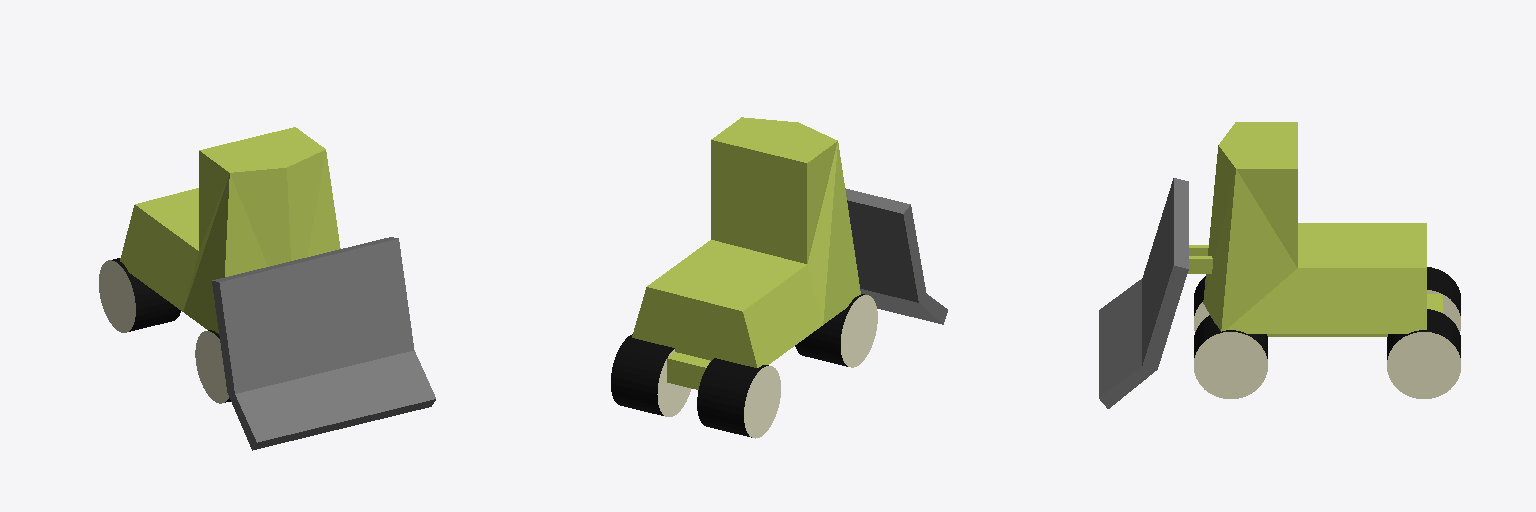
3 views of the same model, side by side, from view 1: azimuth 30°, elevation 25°; view 2: azimuth 150°, elevation 25°; view 3: azimuth 270°, elevation 25° (orthographic).
Parts seen in each view (by area): view 1: 除雪車; view 2: 除雪車; view 3: 除雪車.
Boxes of the visible parts, box(x1,y1,x2,y2) form: 除雪車: box(99, 127, 435, 450); 除雪車: box(611, 117, 947, 438); 除雪車: box(1099, 122, 1460, 408).
Size of the model in its own units: 5.56 by 6.56 by 9.73.
1 materials, 1 textured.